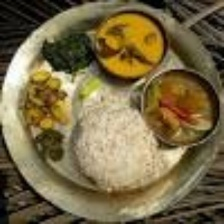rice: (69, 99, 165, 193)
